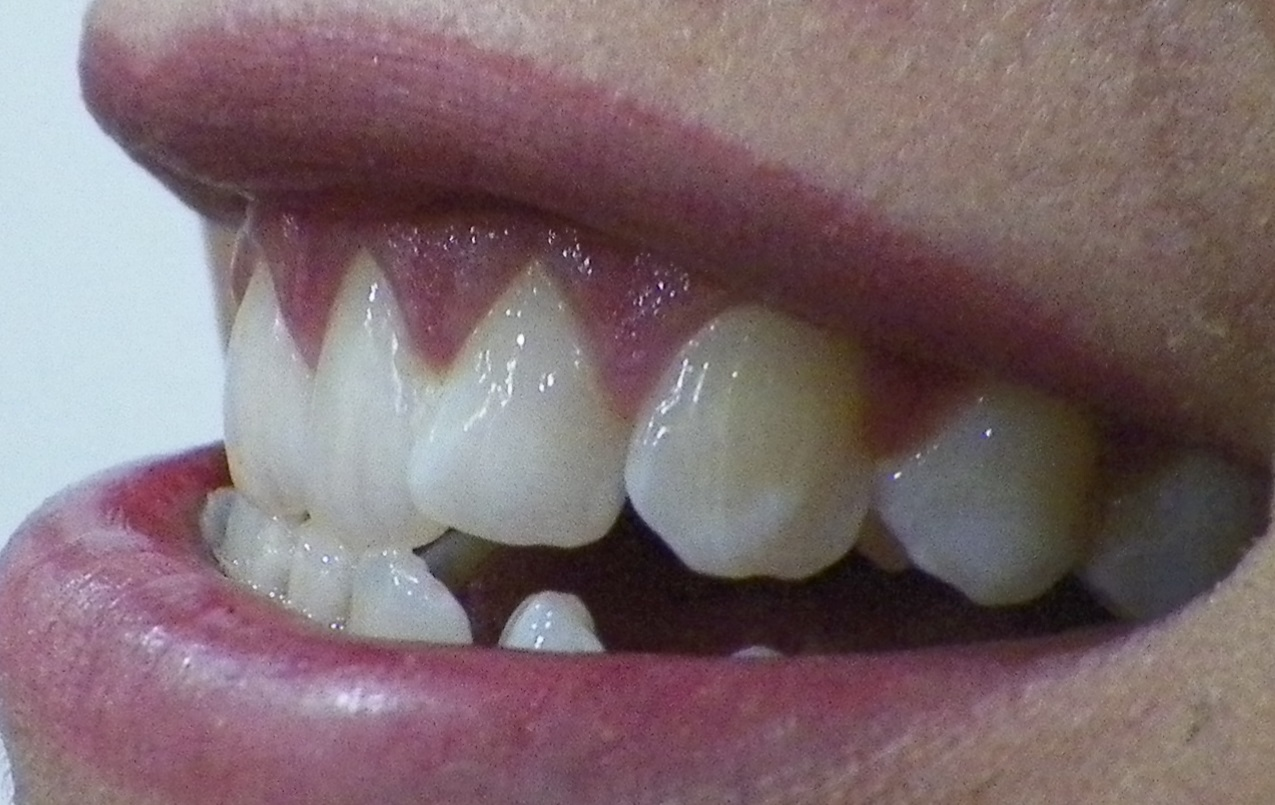boca: (209, 256, 1181, 646)
